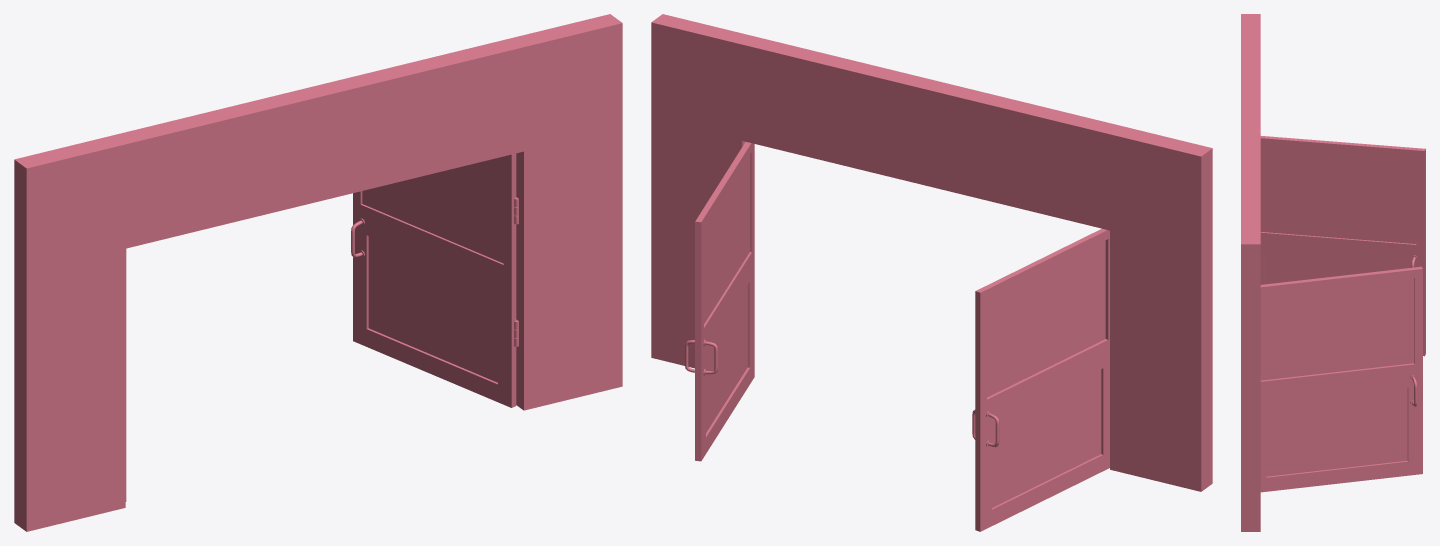
Rendered from Main Door.fbx.
3 views of the same model, side by side, from view 1: azimuth 30°, elevation 25°; view 2: azimuth 150°, elevation 25°; view 3: azimuth 270°, elevation 25° (orthographic). The views are drawn at different scales.
Parts seen in each view (by area): view 1: Cube.001, Cube.029, Cube.030; view 2: Cube.001, Cube.003, Cube.002, Cube.029, Cube.030; view 3: Cube.029, Cube.002, Cube.030, Cube.001, Cube.003.
Part boxes in pixels (box(x1,y1,x2,y2)): Cube.001: box(14, 14, 622, 531); Cube.029: box(353, 153, 516, 407); Cube.030: box(362, 156, 503, 263); Cube.001: box(651, 14, 1212, 491); Cube.003: box(975, 228, 1109, 531); Cube.002: box(987, 240, 1105, 397); Cube.029: box(695, 142, 754, 461); Cube.030: box(704, 155, 749, 323); Cube.029: box(1260, 266, 1422, 492); Cube.002: box(1260, 146, 1416, 243); Cube.030: box(1260, 278, 1413, 380); Cube.001: box(1241, 14, 1260, 531); Cube.003: box(1260, 136, 1425, 356).
Bounding box in the file's own units: 693 × 404 × 235.
